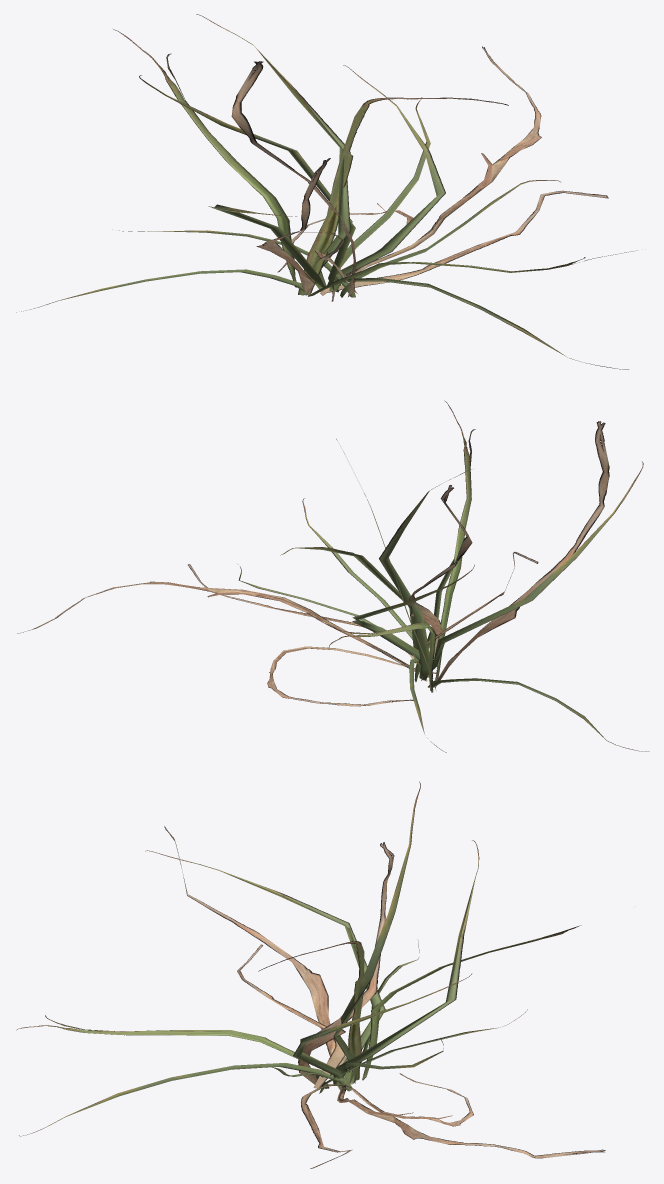
Rendered from Grass_Short_A.fbx.
3 views of the same model, one above another, from view 1: azimuth 30°, elevation 25°; view 2: azimuth 150°, elevation 25°; view 3: azimuth 270°, elevation 25° (orthographic). The views are drawn at different scales.
Parts seen in each view (by area): view 1: Grass_Short_A; view 2: Grass_Short_A; view 3: Grass_Short_A.
Boxes of the visible parts, <box> form: Grass_Short_A: <box>16,14,636,369</box>; Grass_Short_A: <box>17,400,649,752</box>; Grass_Short_A: <box>16,781,605,1168</box>.
Size of the model in its own units: 0.2487 by 0.115 by 0.25.
1 material, 1 textured.
